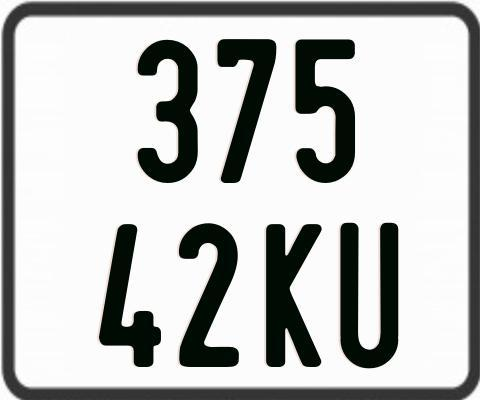2: (178, 222, 240, 371)
3: (137, 40, 200, 189)
4: (98, 222, 166, 369)
5: (294, 36, 360, 181)
7: (215, 38, 275, 186)
K: (265, 223, 323, 369)
U: (340, 221, 401, 372)
